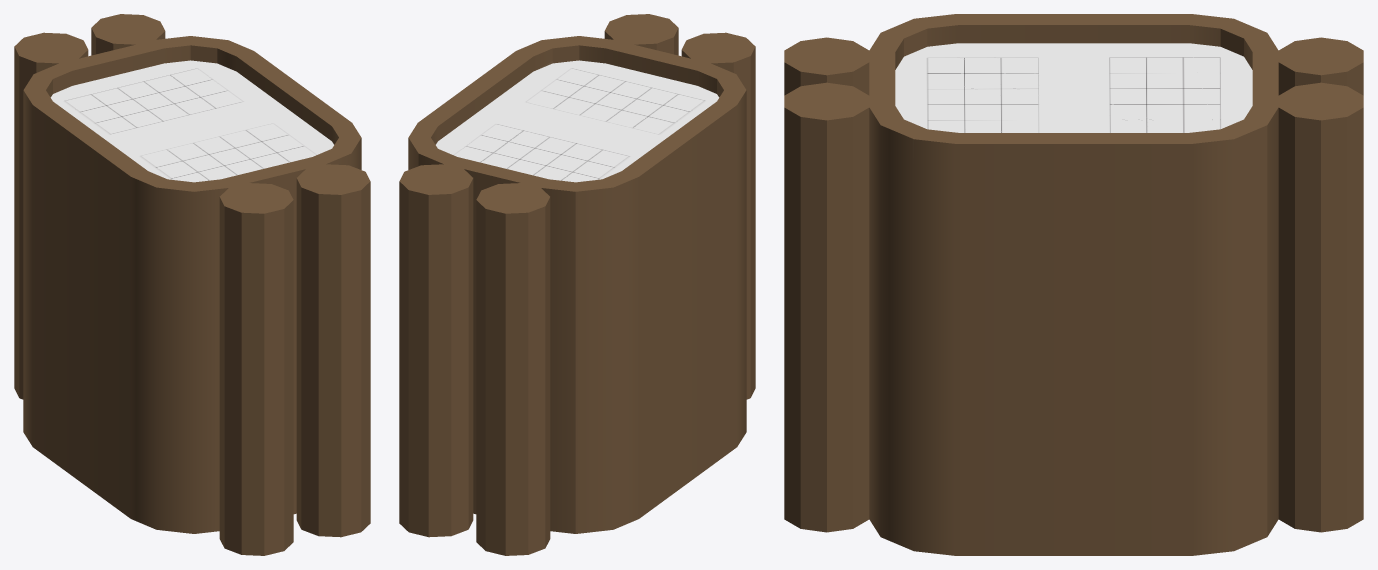
The model's file is Cai_buc.fbx.
3 views of the same model, side by side, from view 1: azimuth 30°, elevation 25°; view 2: azimuth 150°, elevation 25°; view 3: azimuth 270°, elevation 25° (orthographic). The views are drawn at different scales.
Parts seen in each view (by area): view 1: cai_buc; view 2: cai_buc; view 3: cai_buc.
Boxes of the visible parts, x1,y1,x2,y2 form: cai_buc: (14, 14, 370, 555); cai_buc: (399, 14, 755, 555); cai_buc: (784, 14, 1363, 555).
Bounding box in the file's own units: 15.49 × 22.9 × 29.18.
